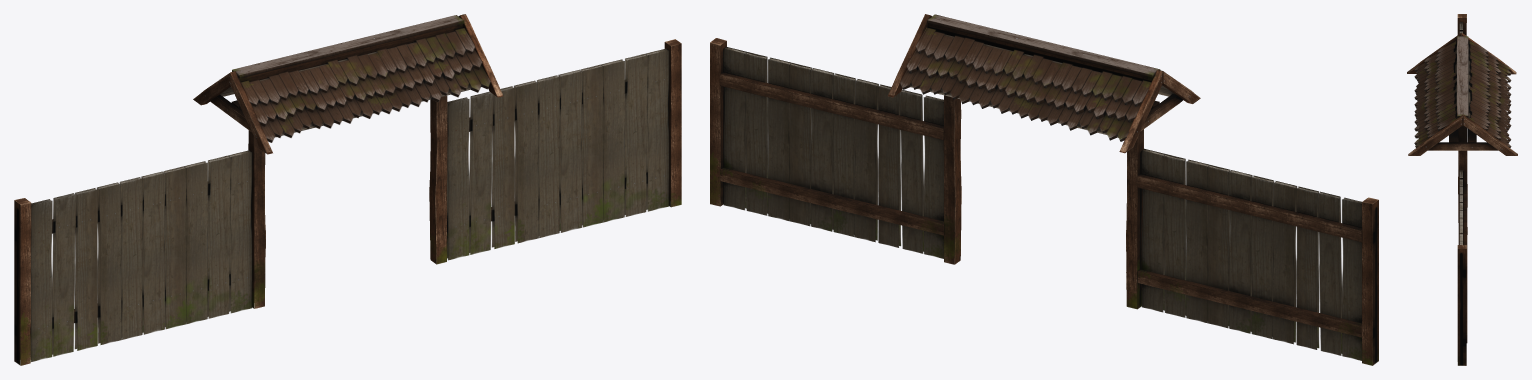
File: fence_gate.glb
The picture shows the model from 3 angles, left to right: view 1: azimuth 30°, elevation 25°; view 2: azimuth 150°, elevation 25°; view 3: azimuth 270°, elevation 25°; orthographic projection. The views are drawn at different scales.
Visible parts, largest first — view 1: fence_painted:bar2_low1, fence_painted:bar_low13, fence_painted:roof_LOW144; view 2: fence_painted:bar2_low1, fence_painted:bar_low13, fence_painted:roof_LOW144; view 3: fence_painted:roof_LOW144, fence_painted:bar_low13, fence_painted:bar2_low1.
Part boxes in pixels (x1,y1,x2,y2): fence_painted:bar2_low1: (14,150,252,365); fence_painted:bar_low13: (447,39,681,260); fence_painted:roof_LOW144: (193,14,503,308); fence_painted:bar2_low1: (1137,148,1378,365); fence_painted:bar_low13: (710,38,943,258); fence_painted:roof_LOW144: (888,14,1200,309); fence_painted:roof_LOW144: (1407,32,1517,244); fence_painted:bar_low13: (1457,170,1467,365); fence_painted:bar2_low1: (1457,14,1466,35).
Bounding box in the file's own units: 30.96 × 10.75 × 6.17.
Materials: 1 (1 with a texture image).
